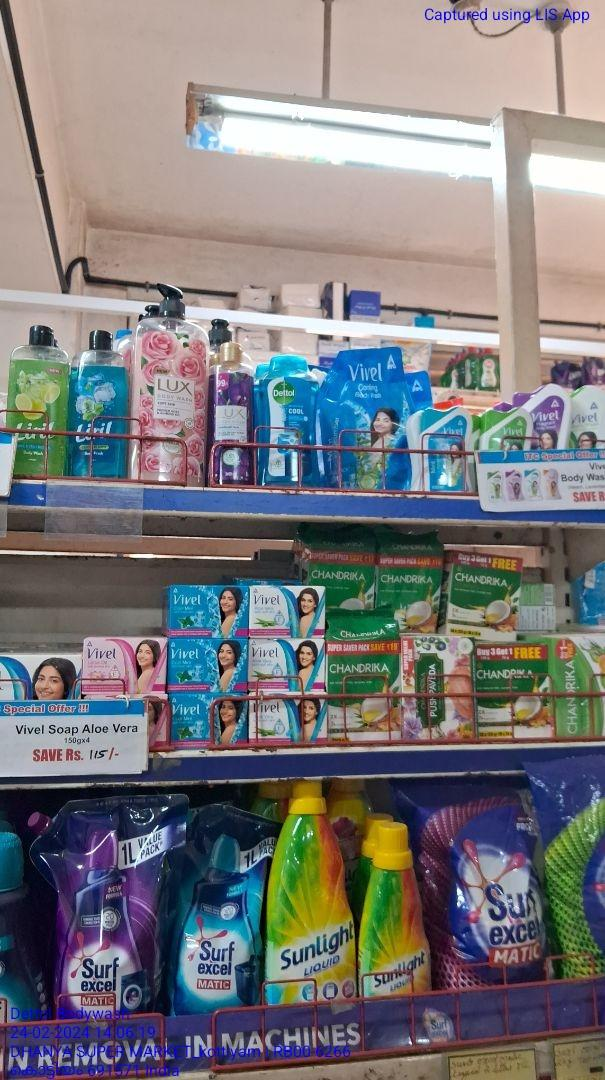Liril_Cooling_Mint_Body_Wash_250ML: (75, 330, 125, 477)
Liril_Lime_and_Tea_Tree_Oil_Body_Wash_250ML: (9, 324, 70, 478)
Lux_Black_Orchid_Scent_and_Juniper_Oil_Body_Wash_245ML: (263, 352, 317, 488), (210, 341, 258, 486)
